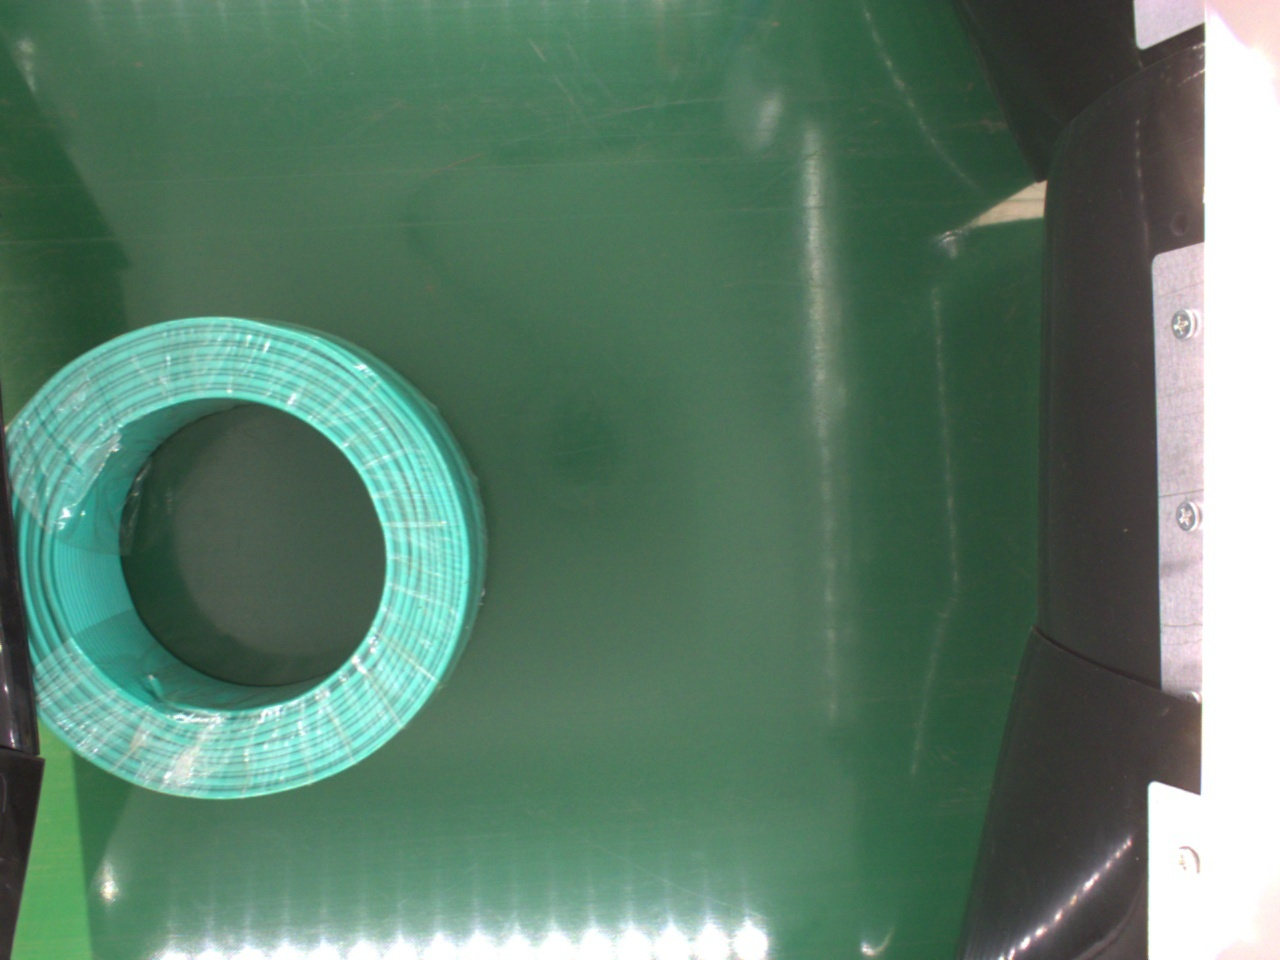green: (10, 313, 487, 804)
